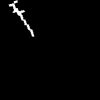double_crochet: (9, 1, 33, 35)
